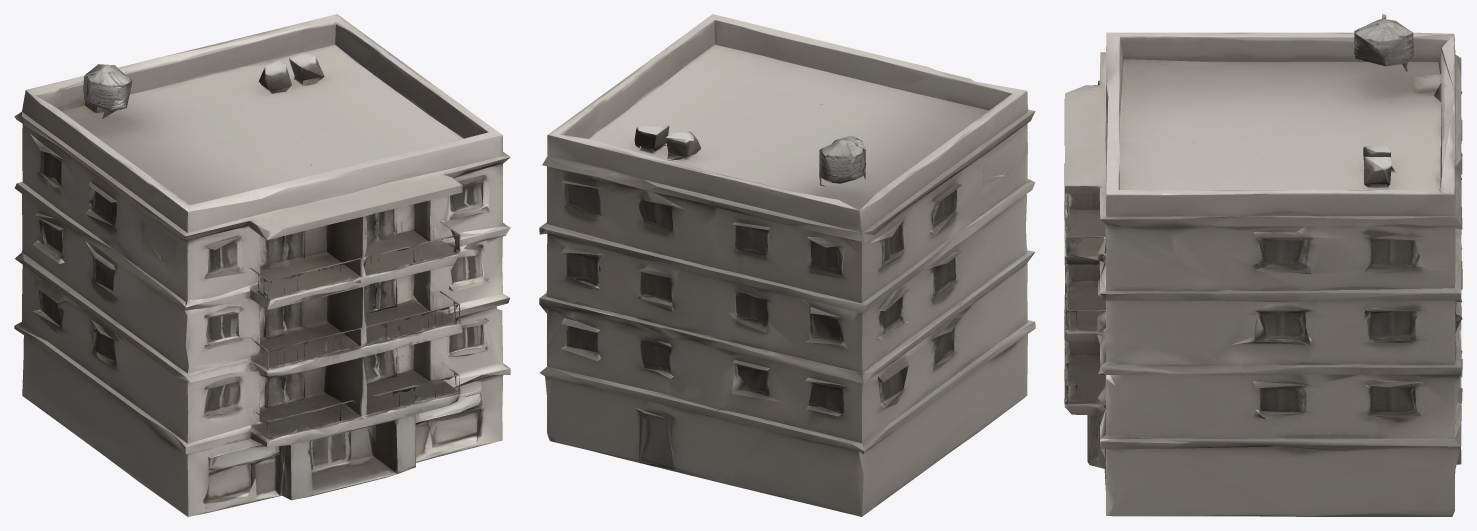
Rendered from predio_residencial.glb.
3 views of the same model, side by side, from view 1: azimuth 30°, elevation 25°; view 2: azimuth 150°, elevation 25°; view 3: azimuth 270°, elevation 25° (orthographic). The views are drawn at different scales.
Visible parts, largest first — view 1: tripo_node_34c1f393-d7ad-467a-ad52-aa74600541f5; view 2: tripo_node_34c1f393-d7ad-467a-ad52-aa74600541f5; view 3: tripo_node_34c1f393-d7ad-467a-ad52-aa74600541f5.
Part boxes in pixels (x1,y1,x2,y2): tripo_node_34c1f393-d7ad-467a-ad52-aa74600541f5: (14, 14, 510, 516); tripo_node_34c1f393-d7ad-467a-ad52-aa74600541f5: (539, 14, 1035, 516); tripo_node_34c1f393-d7ad-467a-ad52-aa74600541f5: (1064, 14, 1462, 516).
Size of the model in its own units: 0.9988 by 0.9995 by 0.9998.
Materials: 1 (1 with a texture image).
